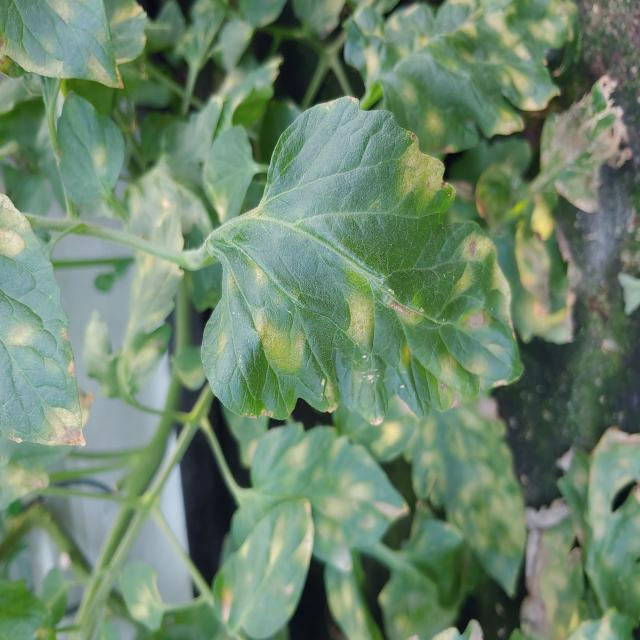Tomato mold leaf: (202, 98, 524, 428), (363, 1, 579, 158), (249, 418, 410, 574), (402, 404, 527, 600), (0, 190, 92, 450), (210, 497, 314, 640), (0, 0, 125, 94)
